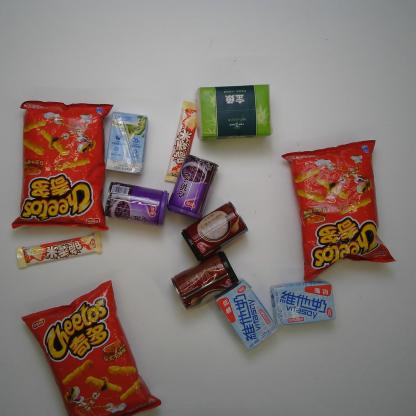Canned Food: (169, 151, 225, 222), (171, 254, 236, 314), (178, 204, 249, 257), (95, 176, 166, 228)
Chocolate: (160, 98, 205, 188), (18, 235, 105, 275)
Milk: (214, 278, 273, 351), (262, 282, 343, 330), (103, 102, 151, 172)
Puffed Food: (19, 282, 163, 416), (285, 138, 397, 282), (16, 96, 112, 231)
Tissue: (192, 83, 281, 145)
